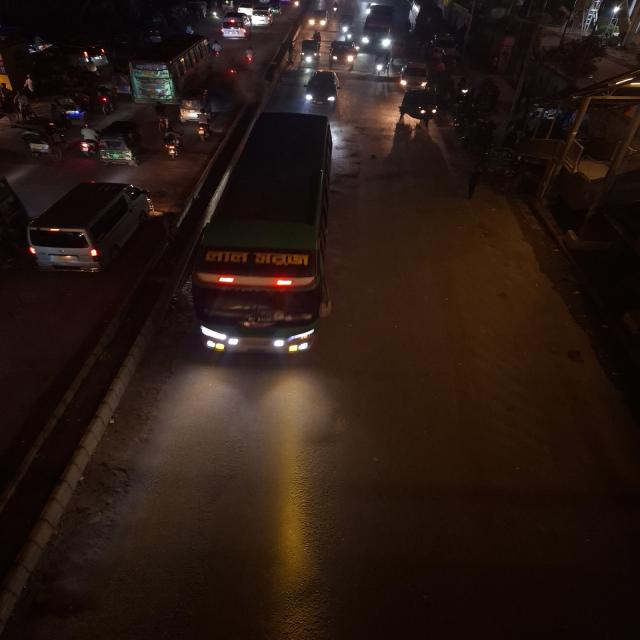bus: (187, 110, 342, 360), (125, 33, 214, 103), (362, 3, 398, 53), (236, 0, 278, 26)
car: (23, 177, 158, 277), (302, 69, 344, 109), (394, 57, 431, 91), (218, 11, 250, 41), (249, 1, 281, 27)
cng: (94, 122, 143, 168), (395, 84, 442, 130), (177, 86, 212, 124), (297, 36, 322, 68), (334, 8, 356, 42), (308, 7, 329, 30)
motorcycle: (157, 126, 186, 161), (74, 122, 98, 158), (194, 110, 219, 142), (92, 84, 116, 115), (452, 74, 472, 102), (241, 44, 257, 66), (210, 40, 224, 60), (227, 64, 240, 80), (329, 0, 341, 16)
pedestrian: (460, 168, 486, 202)
pickup_van: (328, 38, 358, 70)
rickshaw: (15, 124, 66, 164), (50, 94, 88, 126), (369, 50, 392, 79)
